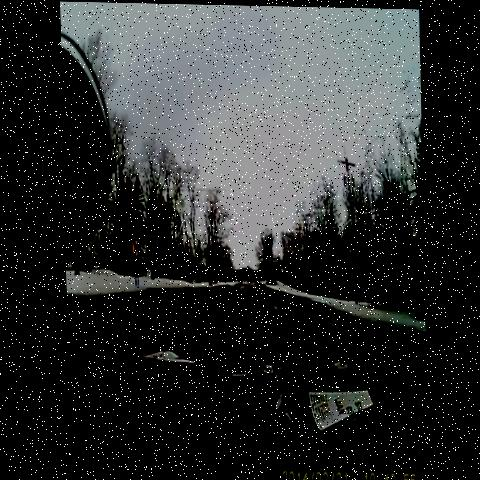pothole: (181, 312, 206, 345)
